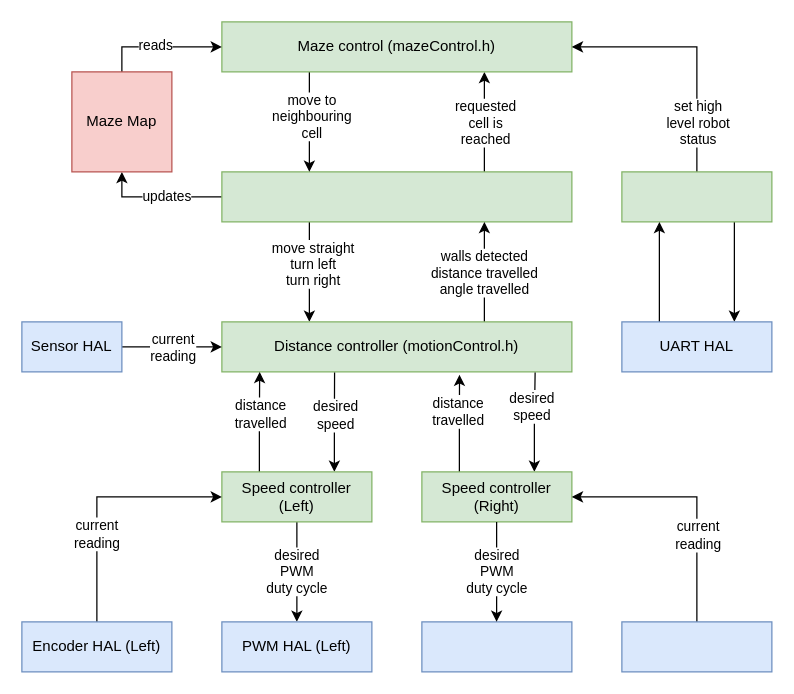
Some shapes in this 794 by 694 pixel diagram are drawn without their labels. Each missing label, with the box of its shape:
Command Handling: (621, 171, 772, 222)
Direction control (robotControl.h): (221, 171, 572, 222)
Encoder HAL (Right): (621, 621, 772, 672)
PWM HAL (Right): (421, 621, 572, 672)
